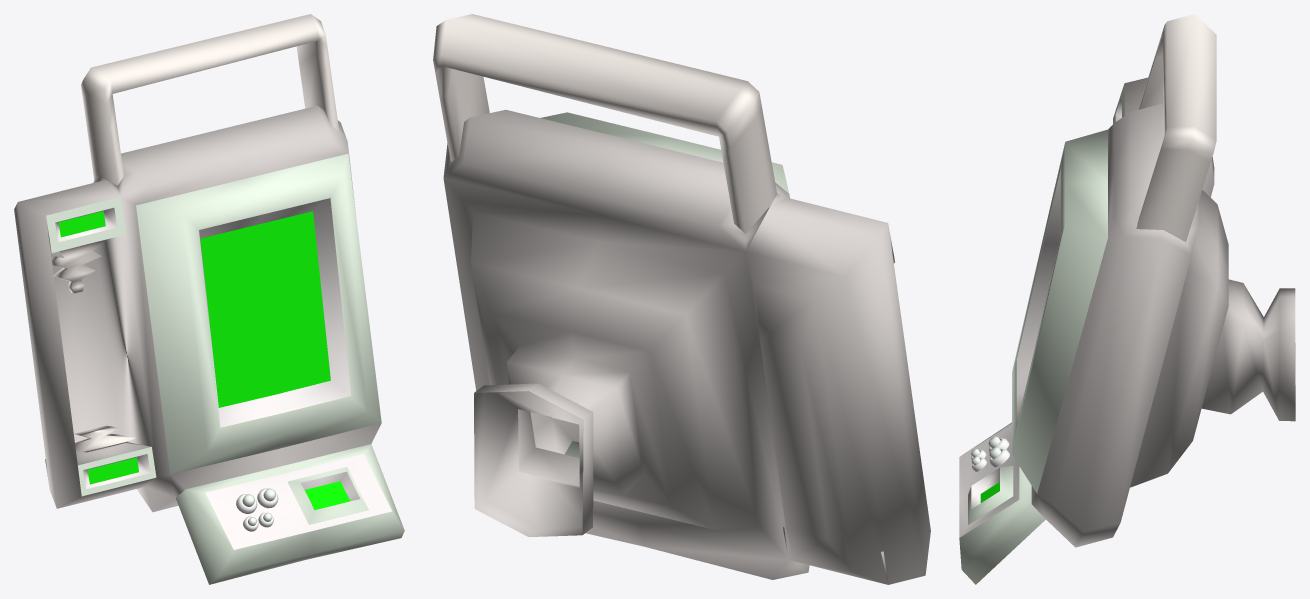
The model's file is pantalla.fbx.
The picture shows the model from 3 angles, left to right: view 1: azimuth 30°, elevation 25°; view 2: azimuth 150°, elevation 25°; view 3: azimuth 270°, elevation 25°; orthographic projection. The views are drawn at different scales.
Visible parts, largest first — view 1: Cube.002, Cube.001, Cube.005, Cube.004, Cube.003, Cube.006, Cube.007; view 2: Cube.001, Cube.003, Cube.002; view 3: Cube.001, Cube.002, Cube.003, Cube.004, Cube.007.
Part boxes in pixels (left/top/right/bottom): Cube.002: left=46, top=154, right=404, bottom=584; Cube.001: left=14, top=105, right=381, bottom=512; Cube.005: left=58, top=211, right=349, bottom=509; Cube.004: left=55, top=198, right=391, bottom=549; Cube.003: left=81, top=14, right=339, bottom=185; Cube.006: left=51, top=239, right=135, bottom=452; Cube.007: left=236, top=488, right=278, bottom=531; Cube.001: left=443, top=109, right=930, bottom=584; Cube.003: left=433, top=14, right=776, bottom=233; Cube.002: left=541, top=112, right=789, bottom=457; Cube.001: left=1031, top=77, right=1295, bottom=547; Cube.002: left=959, top=84, right=1124, bottom=584; Cube.003: left=1136, top=14, right=1216, bottom=241; Cube.004: left=959, top=96, right=1121, bottom=537; Cube.007: left=971, top=438, right=1009, bottom=471.
Size of the model in its own units: 59.96 by 78.82 by 51.6.
